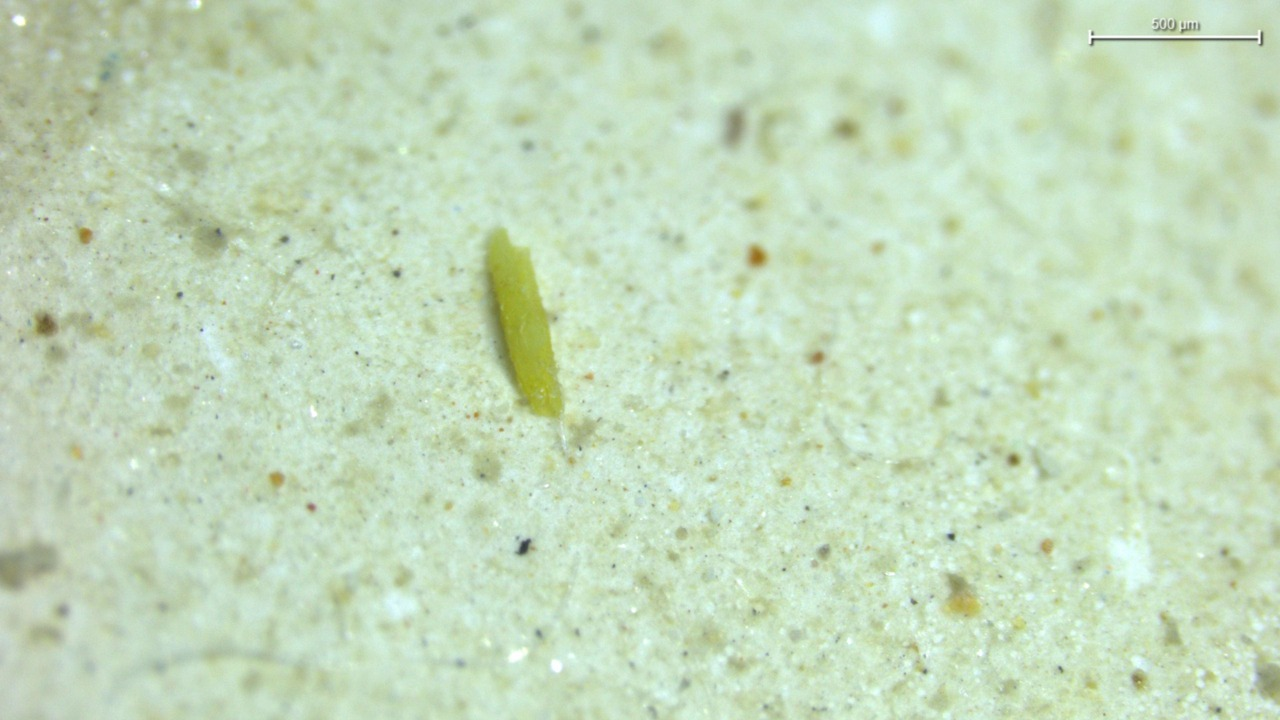microplastic_fragment: (487, 228, 562, 417)
